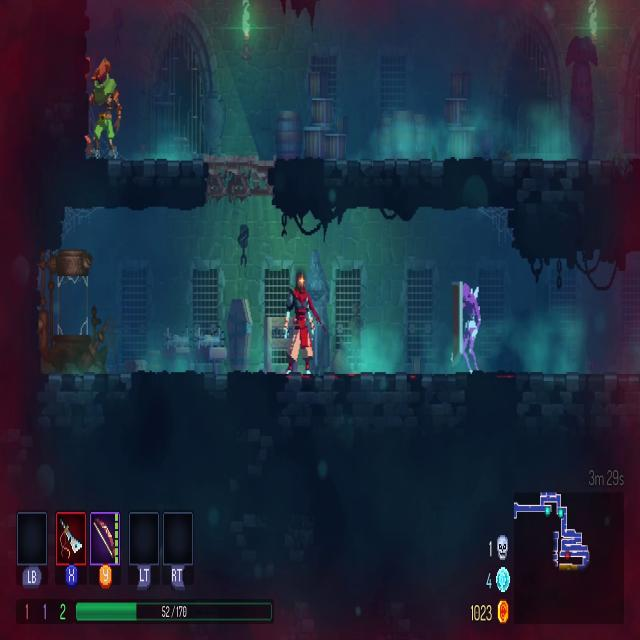agents: (281, 272, 314, 378)
enemy_archer: (90, 56, 119, 158)
enemy_purple_shield: (450, 280, 482, 374)
wood_floor: (204, 146, 275, 203)
